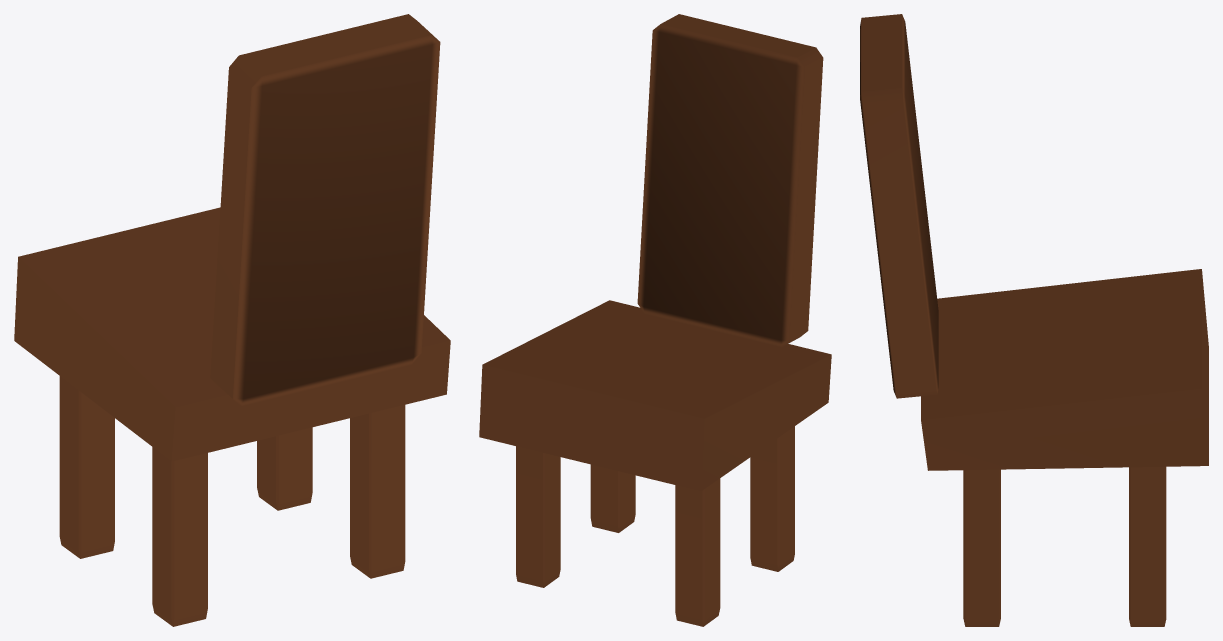
Rendered from chair.glb.
The picture shows the model from 3 angles, left to right: view 1: azimuth 30°, elevation 25°; view 2: azimuth 150°, elevation 25°; view 3: azimuth 270°, elevation 25°; orthographic projection. The views are drawn at different scales.
Visible parts, largest first — view 1: Cube.001; view 2: Cube.001; view 3: Cube.001.
Part boxes in pixels (box(x1,y1,x2,y2)): Cube.001: box(14, 14, 450, 626); Cube.001: box(479, 14, 831, 626); Cube.001: box(860, 14, 1208, 626).
Size of the model in its own units: 0.4743 by 0.9721 by 0.5842.
